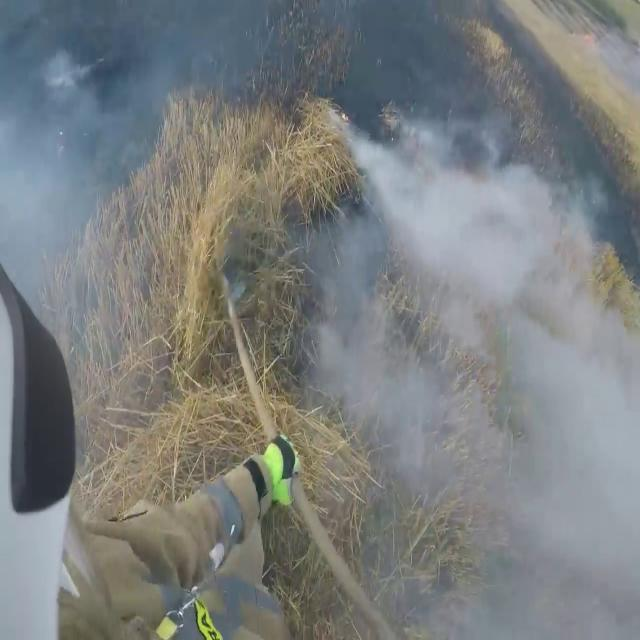Smoke: (297, 75, 640, 633), (0, 1, 184, 304)
